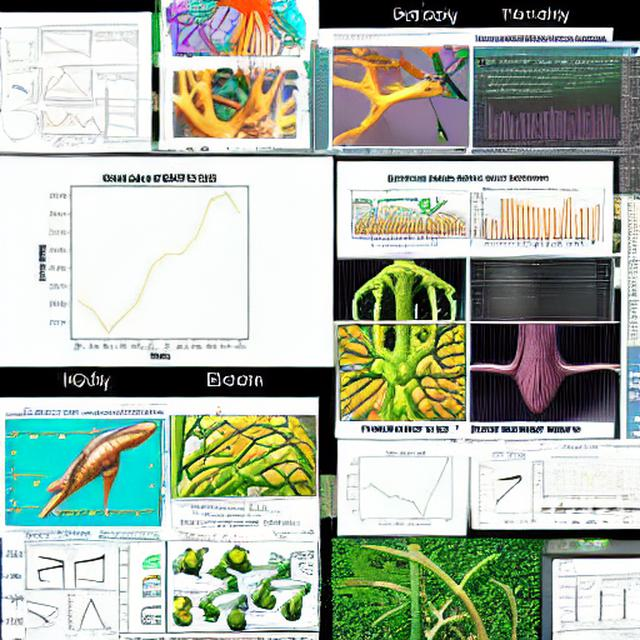Graph: (24, 162, 289, 361), (344, 442, 464, 532), (468, 185, 591, 254), (479, 95, 567, 148), (529, 454, 616, 504), (34, 103, 102, 151), (479, 283, 542, 321)
